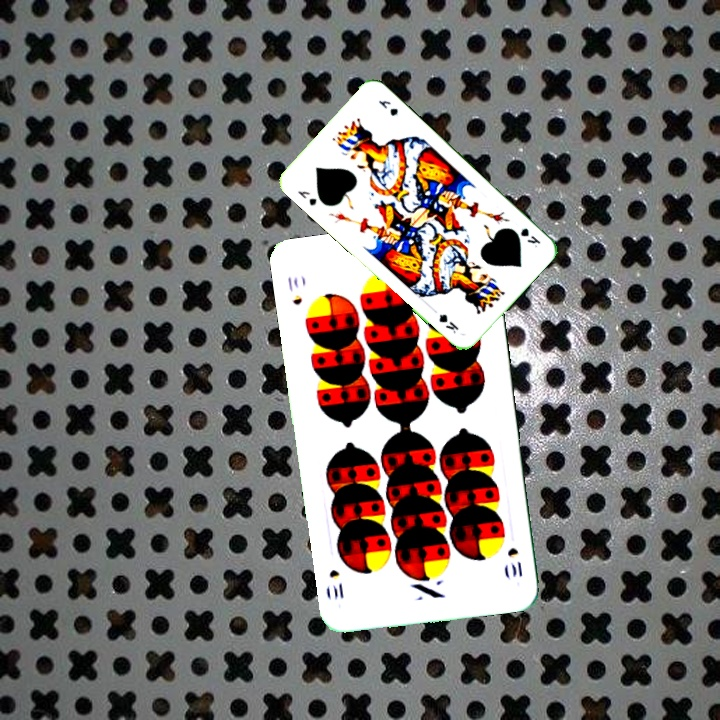GK: (516, 224, 543, 250), (293, 187, 319, 208)
S10: (503, 543, 525, 580), (284, 273, 305, 308)
